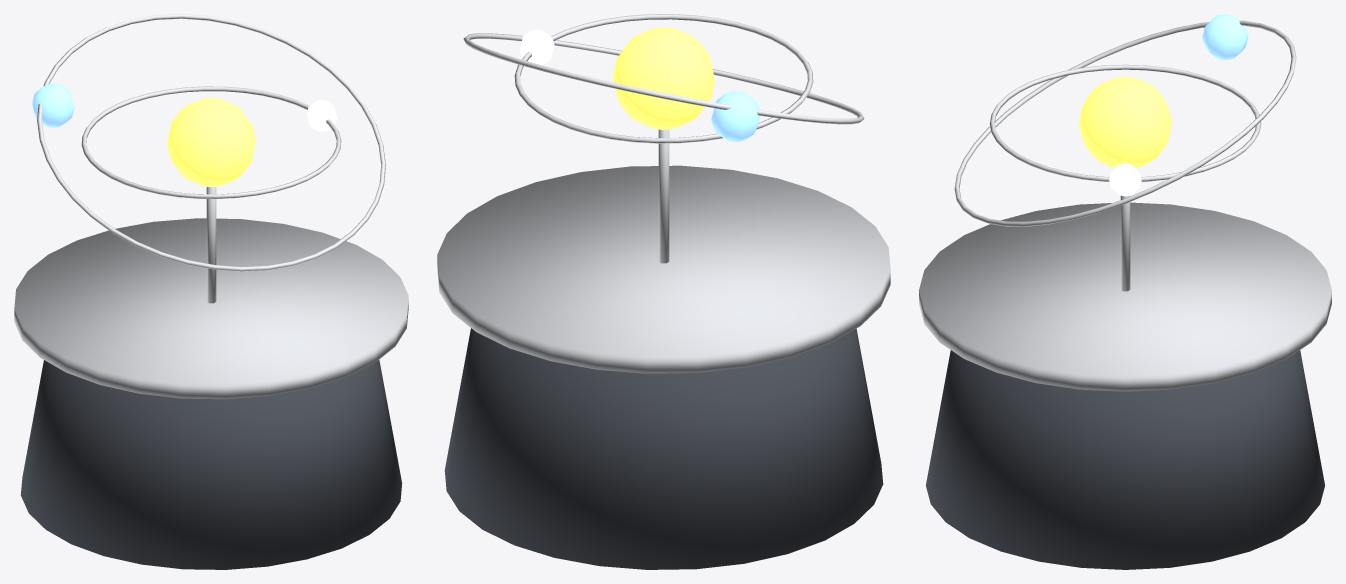
The model's file is holotable_planet_orrery.glb.
3 renders of one model, left to right at view 1: azimuth 30°, elevation 25°; view 2: azimuth 150°, elevation 25°; view 3: azimuth 270°, elevation 25°, orthographic. The views are drawn at different scales.
Visible parts, largest first — view 1: GD_holotable_planet_orrery__m0, GD_holotable_planet_orrery__m1, GD_holotable_planet_orrery__m3, GD_holotable_planet_orrery__m2, GD_holotable_planet_orrery__m5, GD_holotable_planet_orrery__m4; view 2: GD_holotable_planet_orrery__m0, GD_holotable_planet_orrery__m1, GD_holotable_planet_orrery__m3, GD_holotable_planet_orrery__m2, GD_holotable_planet_orrery__m5, GD_holotable_planet_orrery__m4; view 3: GD_holotable_planet_orrery__m0, GD_holotable_planet_orrery__m1, GD_holotable_planet_orrery__m3, GD_holotable_planet_orrery__m2, GD_holotable_planet_orrery__m5, GD_holotable_planet_orrery__m4.
Part boxes in pixels (bbox=[...]): GD_holotable_planet_orrery__m0: bbox=[20, 360, 402, 569]; GD_holotable_planet_orrery__m1: bbox=[14, 218, 408, 399]; GD_holotable_planet_orrery__m3: bbox=[37, 14, 385, 303]; GD_holotable_planet_orrery__m2: bbox=[167, 98, 255, 187]; GD_holotable_planet_orrery__m5: bbox=[31, 83, 74, 127]; GD_holotable_planet_orrery__m4: bbox=[306, 100, 337, 131]; GD_holotable_planet_orrery__m0: bbox=[444, 328, 883, 569]; GD_holotable_planet_orrery__m1: bbox=[437, 165, 890, 373]; GD_holotable_planet_orrery__m3: bbox=[463, 14, 864, 263]; GD_holotable_planet_orrery__m2: bbox=[613, 27, 714, 129]; GD_holotable_planet_orrery__m5: bbox=[711, 91, 759, 141]; GD_holotable_planet_orrery__m4: bbox=[519, 29, 554, 64]; GD_holotable_planet_orrery__m0: bbox=[926, 350, 1324, 569]; GD_holotable_planet_orrery__m1: bbox=[919, 202, 1331, 391]; GD_holotable_planet_orrery__m3: bbox=[954, 20, 1296, 291]; GD_holotable_planet_orrery__m2: bbox=[1079, 77, 1171, 168]; GD_holotable_planet_orrery__m5: bbox=[1202, 14, 1248, 60]; GD_holotable_planet_orrery__m4: bbox=[1109, 163, 1141, 196].
Bounding box in the file's own units: 1.24 × 1.42 × 1.24.
